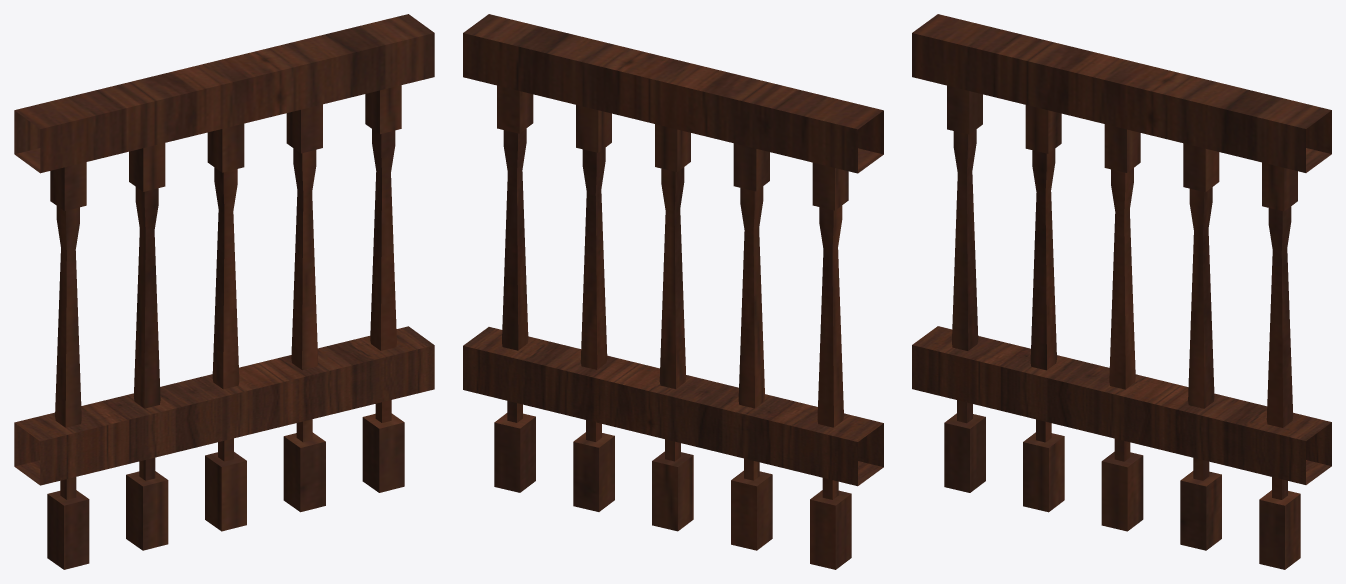
The model's file is Fence.fbx.
3 views of the same model, side by side, from view 1: azimuth 30°, elevation 25°; view 2: azimuth 150°, elevation 25°; view 3: azimuth 330°, elevation 25° (orthographic).
Visible parts, largest first — view 1: Fence.; view 2: Fence.; view 3: Fence..
Part boxes in pixels (x1,y1,x2,y2): Fence.: (14, 14, 434, 569); Fence.: (463, 14, 883, 569); Fence.: (912, 14, 1331, 569).
Size of the model in its own units: 100 by 109 by 11.41.
